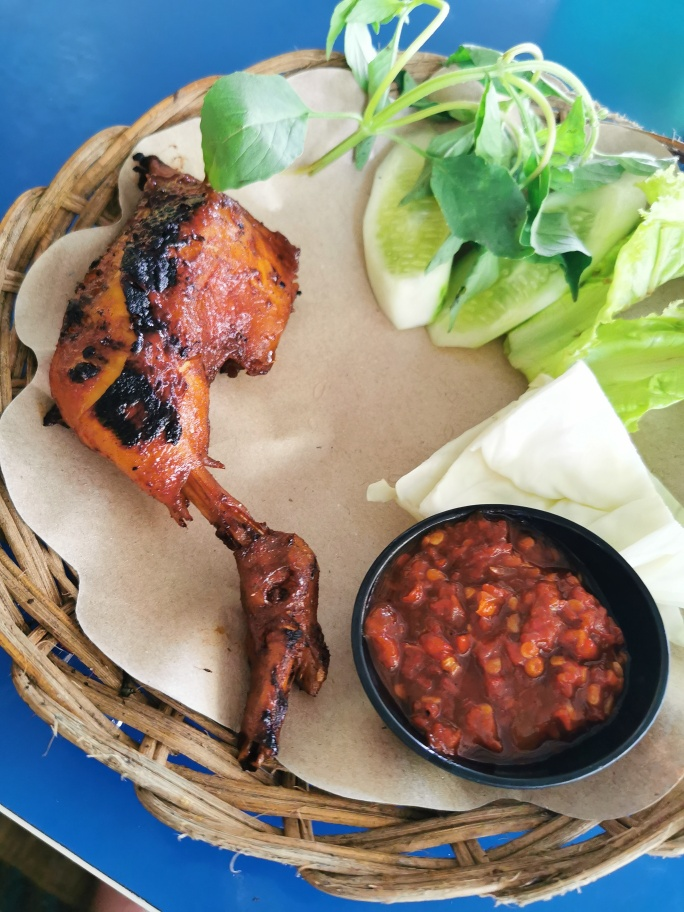ayam bakar: (47, 145, 364, 765)
